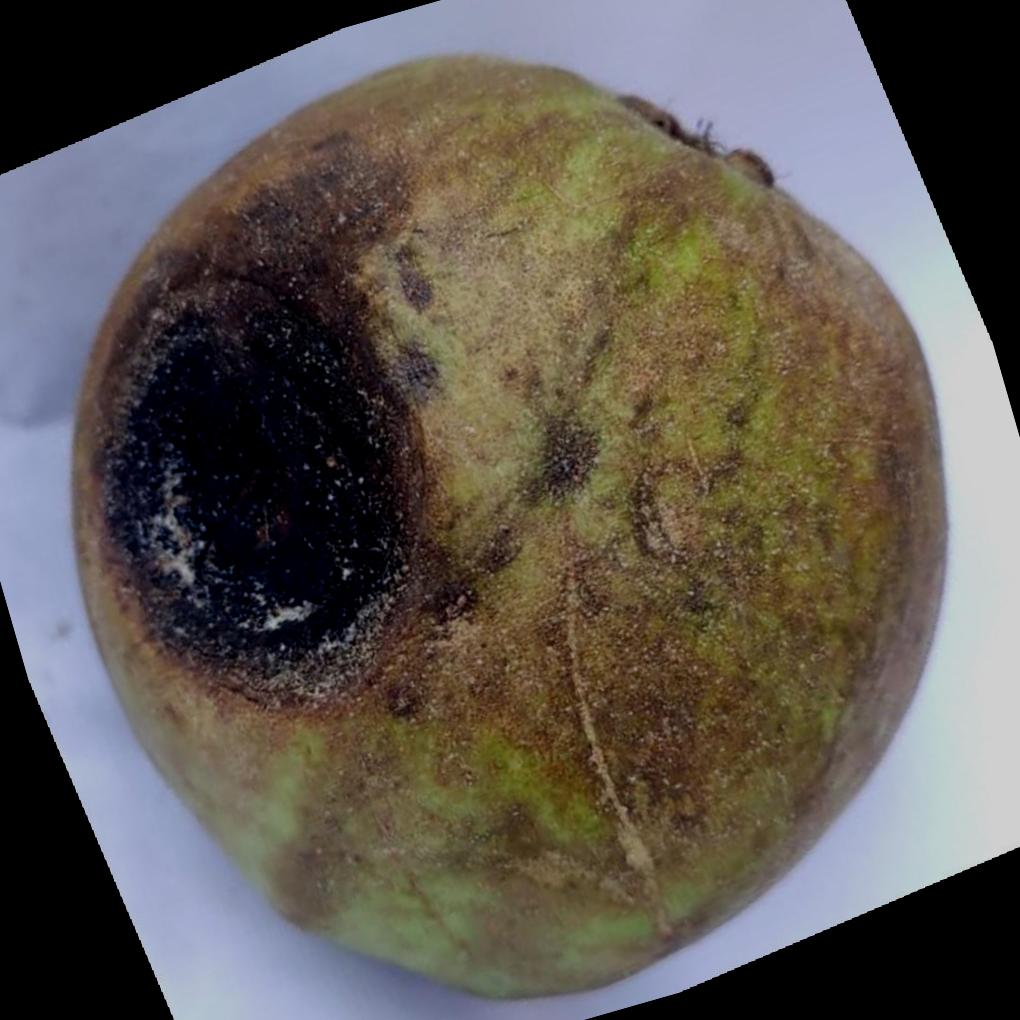FreshOrange: (68, 53, 951, 1004)
